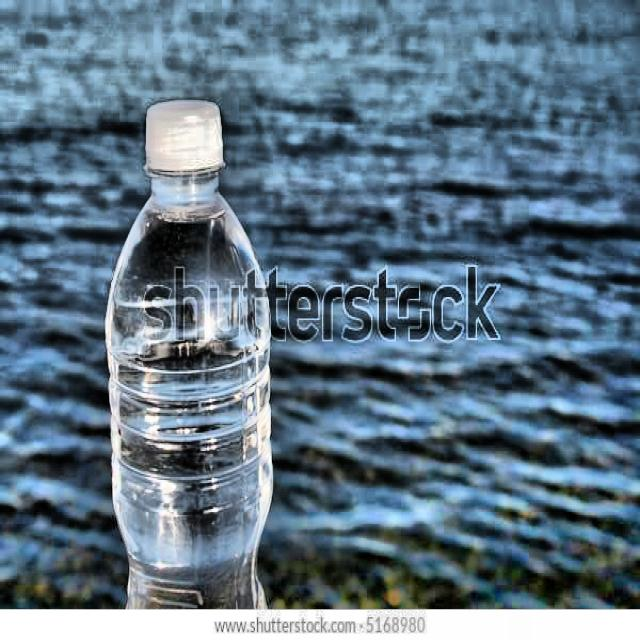Bottles: (105, 99, 275, 623)
